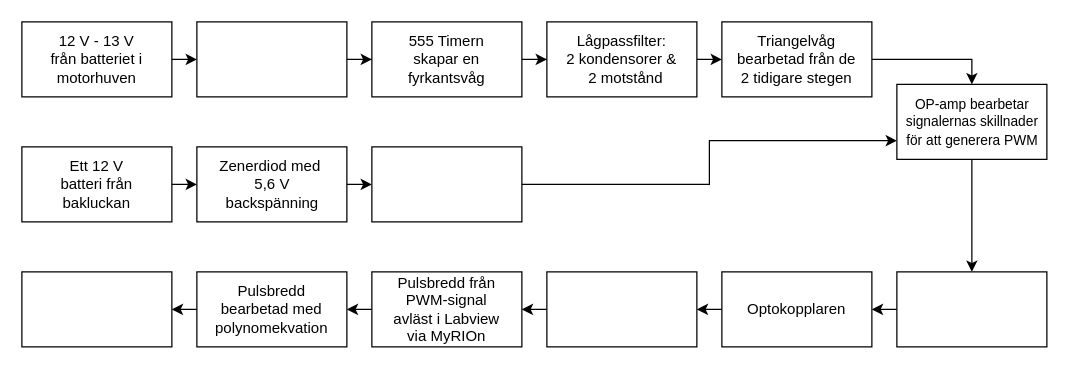
Image size: 1070x369. Some labels were removed from this diagram. Here are the shapes that lost their labels. From the top down, the centre of each, then its label:
At (271,59): "12 V från DC till DC-omvandlare genererad".
At (446,184): "(V_batteri - V_zenerdiod) = 12 V - 5,6 V = 6,4 V".
At (96,309): "Spänning från 12 V batteri i bakluckan känd".
At (621,309): "Elektroniskt isolerad PWM-signal".
At (971,309): "3,3 V från en isolerad DC till DC-omvandlare".
